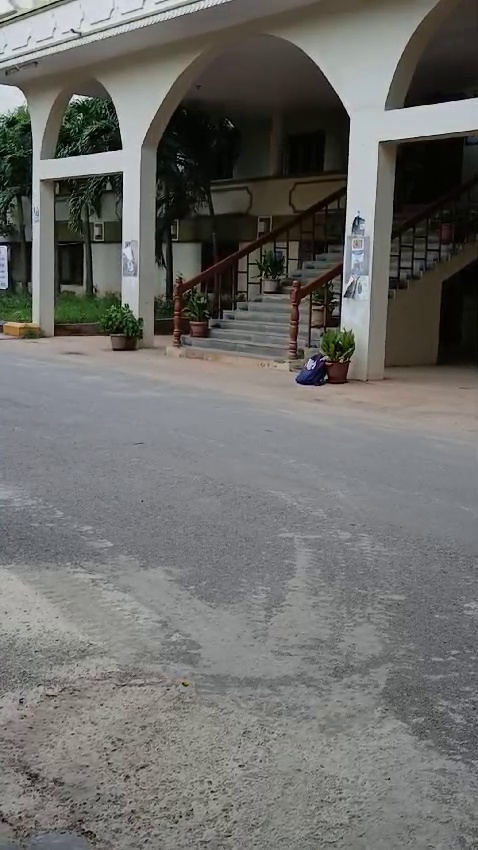bag: (292, 349, 331, 384)
